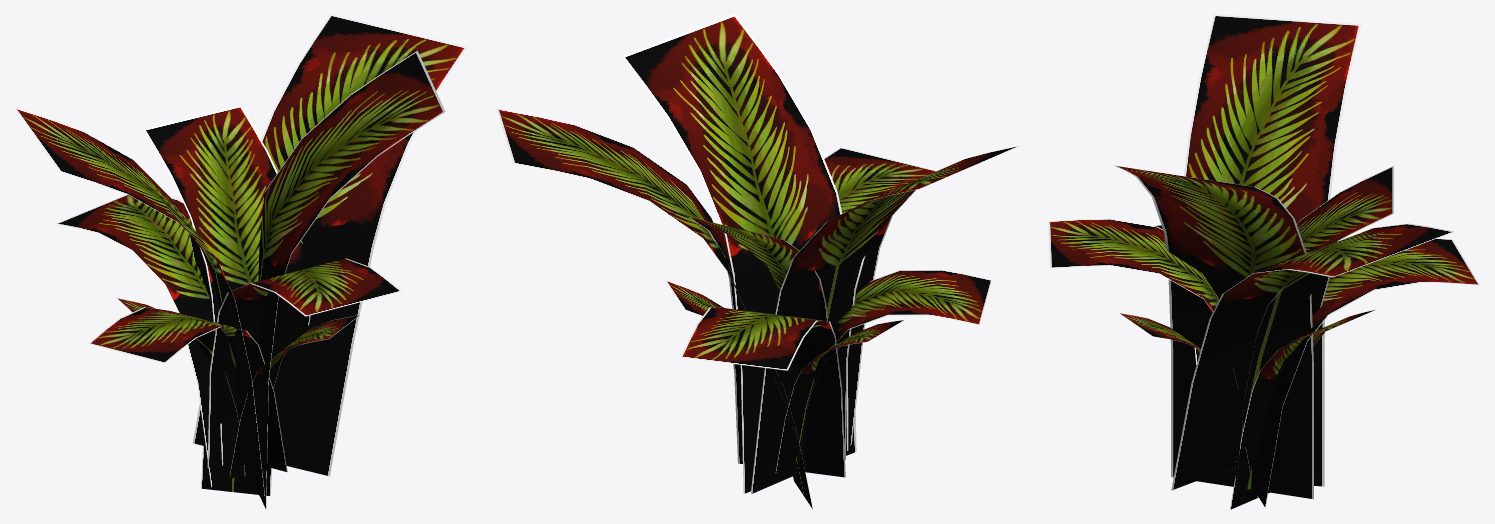
File: ArecaPalmBush.fbx
The picture shows the model from 3 angles, left to right: view 1: azimuth 30°, elevation 25°; view 2: azimuth 150°, elevation 25°; view 3: azimuth 270°, elevation 25°; orthographic projection.
Parts seen in each view (by area): view 1: areca_palm; view 2: areca_palm; view 3: areca_palm.
Part boxes in pixels (x1=…): areca_palm: x1=14, y1=14, x2=467, y2=509; areca_palm: x1=496, y1=14, x2=1018, y2=509; areca_palm: x1=1048, y1=14, x2=1480, y2=509.
Size of the model in its own units: 2.11 by 1.72 by 1.68.
1 material, 1 textured.
